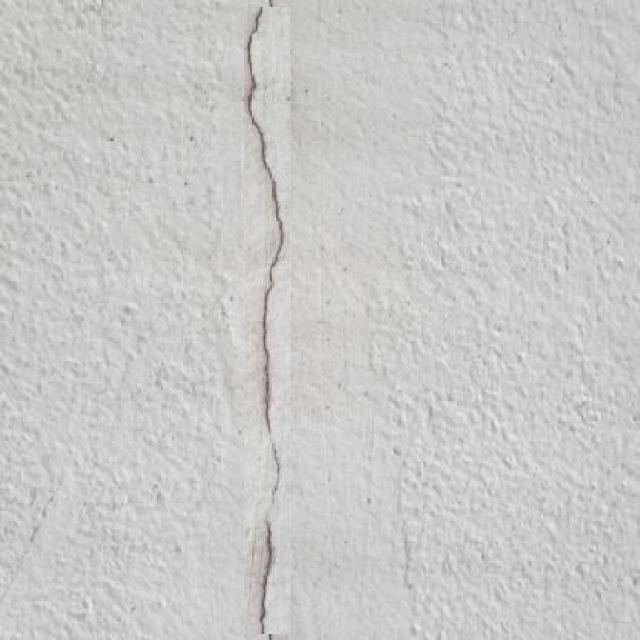vertical crack: (245, 7, 288, 634)
